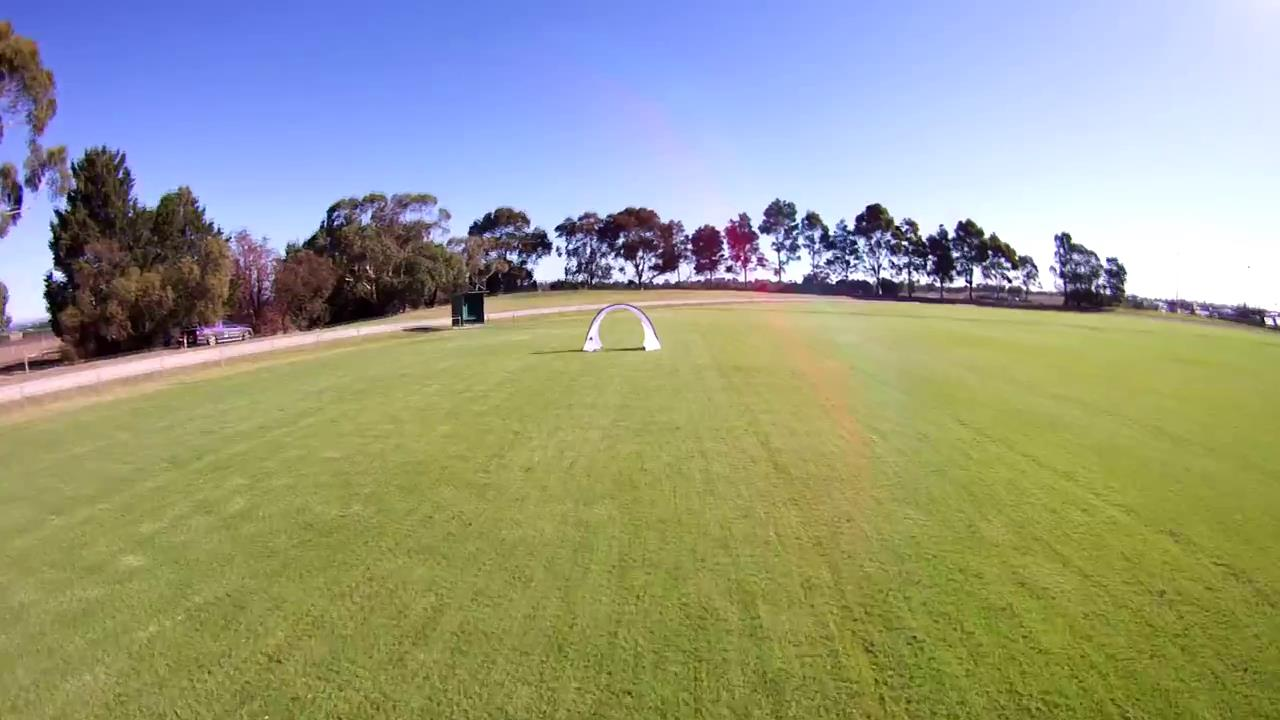gate: (578, 303, 664, 354)
